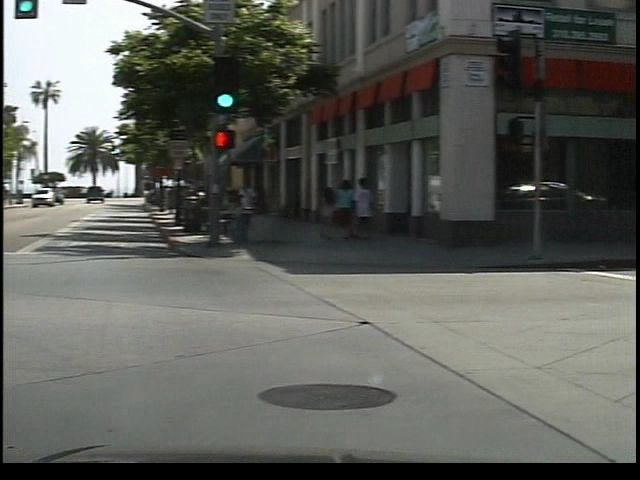person: (248, 174, 274, 237)
